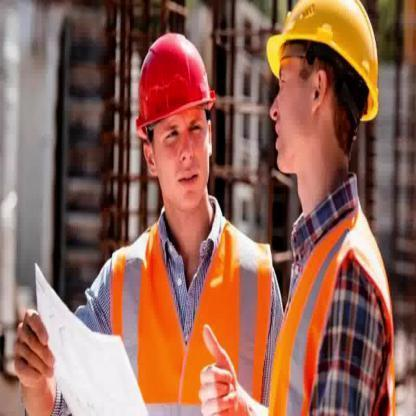helmet: (266, 0, 381, 126), (136, 30, 217, 142)
vest: (107, 216, 275, 415), (266, 198, 398, 415)
